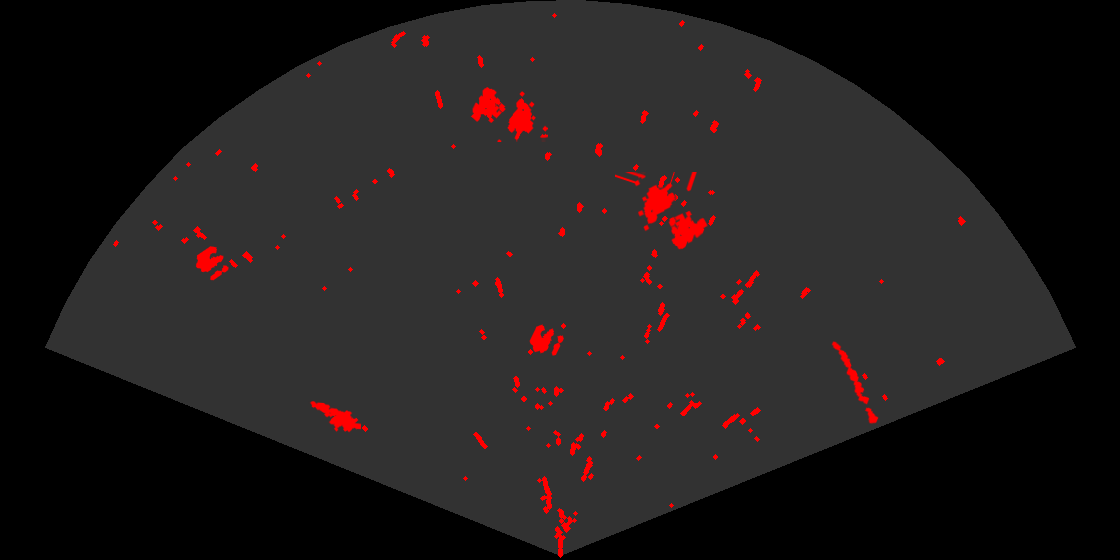ball: (194, 245, 230, 282), (528, 323, 565, 357)
cage: (615, 172, 710, 251), (469, 86, 548, 142)
chain: (830, 340, 880, 426)
frogman: (308, 400, 361, 434)
